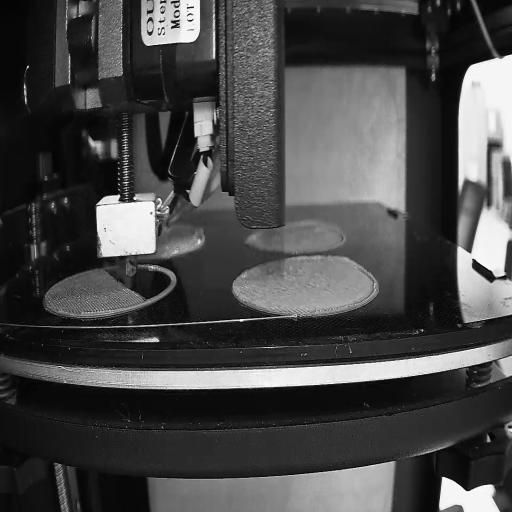over_extrusion: (358, 260, 380, 306)
